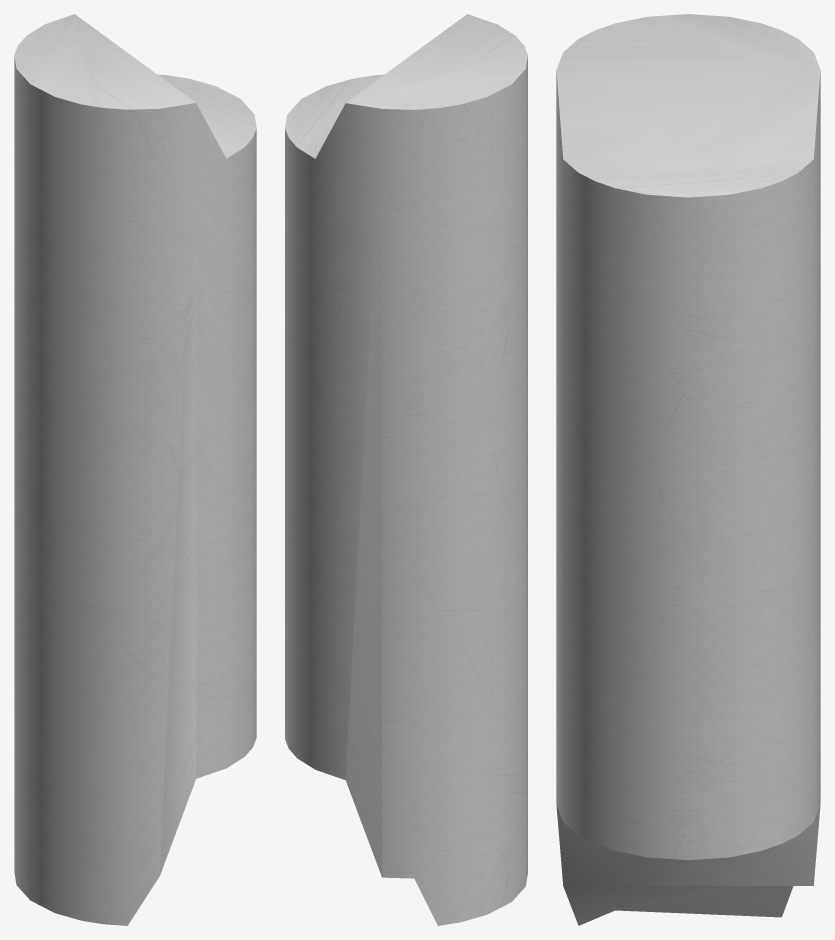
Rendered from PillarObs.fbx.
3 renders of one model, left to right at view 1: azimuth 30°, elevation 25°; view 2: azimuth 150°, elevation 25°; view 3: azimuth 270°, elevation 25°, orthographic. The views are drawn at different scales.
Parts seen in each view (by area): view 1: pillar; view 2: pillar; view 3: pillar.
Part boxes in pixels (<box>): pillar: <box>14,14,256,925</box>; pillar: <box>285,14,527,925</box>; pillar: <box>556,14,820,925</box>.
Size of the model in its own units: 200 by 741 by 200.
